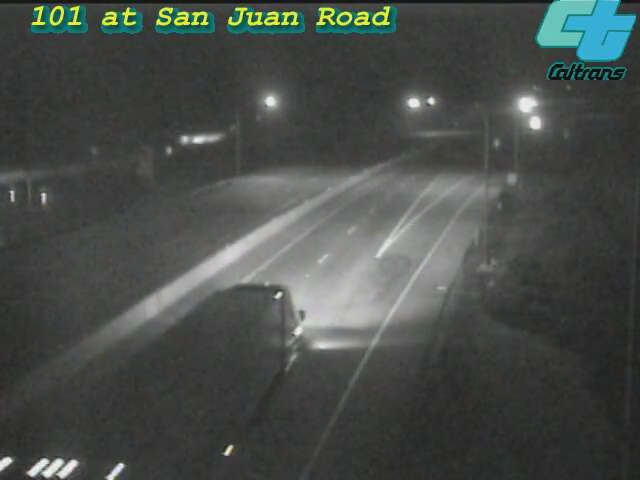vehicle: (138, 336, 248, 446), (508, 99, 558, 149), (502, 79, 552, 129)
